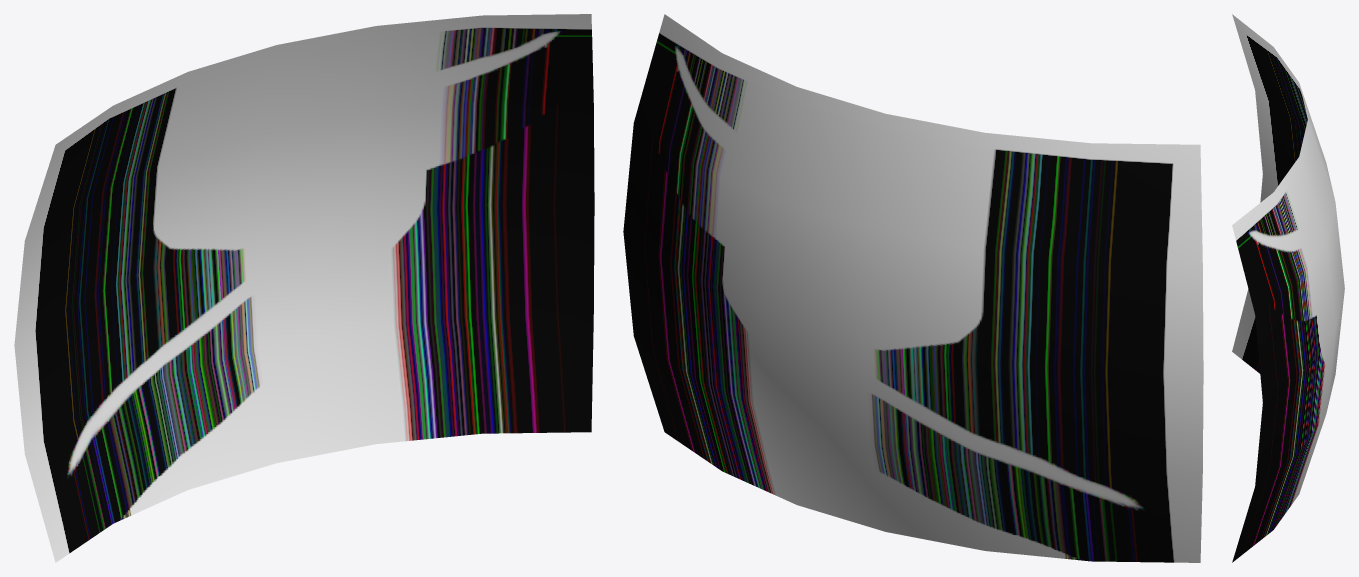
The model's file is Wisp_A.fbx.
3 renders of one model, left to right at view 1: azimuth 30°, elevation 25°; view 2: azimuth 150°, elevation 25°; view 3: azimuth 270°, elevation 25°, orthographic. The views are drawn at different scales.
Visible parts, largest first — view 1: Wisp_A; view 2: Wisp_A; view 3: Wisp_A.
Part boxes in pixels (<box>): Wisp_A: <box>14,14,594,562</box>; Wisp_A: <box>623,14,1203,562</box>; Wisp_A: <box>1232,14,1344,562</box>.
Size of the model in its own units: 120 by 82.52 by 25.
